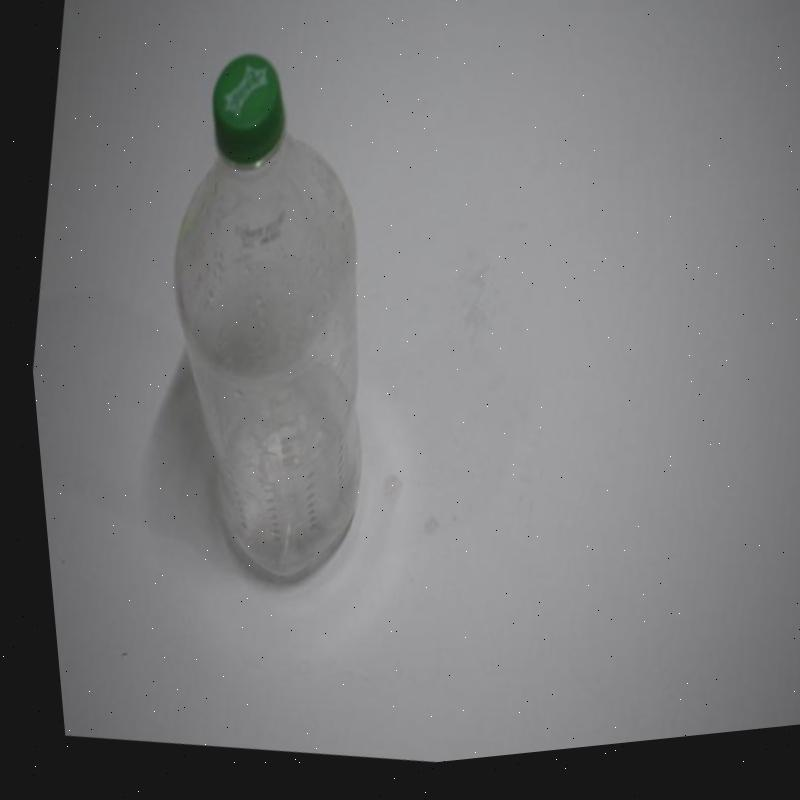botella: (92, 33, 442, 617)
